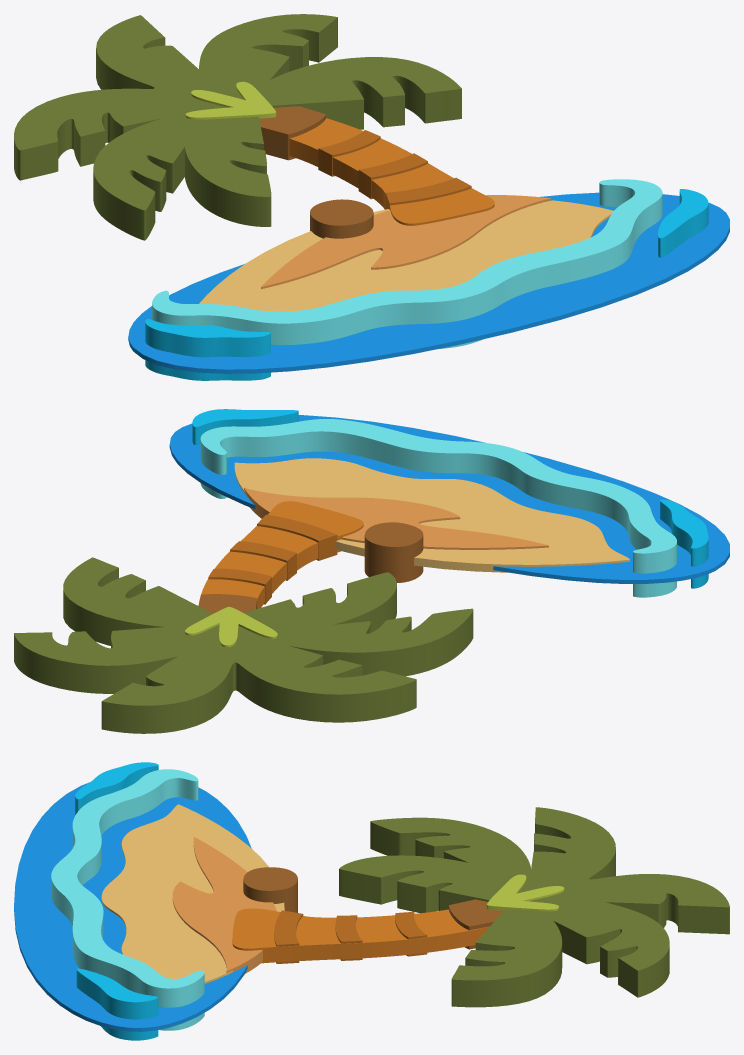
File: emoji_u1f3dd.glb
The picture shows the model from 3 angles, top to bottom: view 1: azimuth 30°, elevation 25°; view 2: azimuth 150°, elevation 25°; view 3: azimuth 270°, elevation 25°; orthographic projection. The views are drawn at different scales.
Visible parts, largest first — view 1: emoji_u1f3dd; view 2: emoji_u1f3dd; view 3: emoji_u1f3dd.
Boxes of the visible parts, x1,y1,x2,y2 form: emoji_u1f3dd: [14, 14, 729, 380]; emoji_u1f3dd: [14, 409, 729, 733]; emoji_u1f3dd: [14, 762, 729, 1040].
Bounding box in the file's own units: 0.0284 × 0.0022 × 0.0338.
